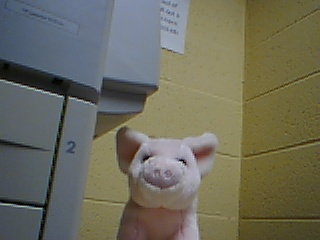piggy: (112, 124, 219, 240)
